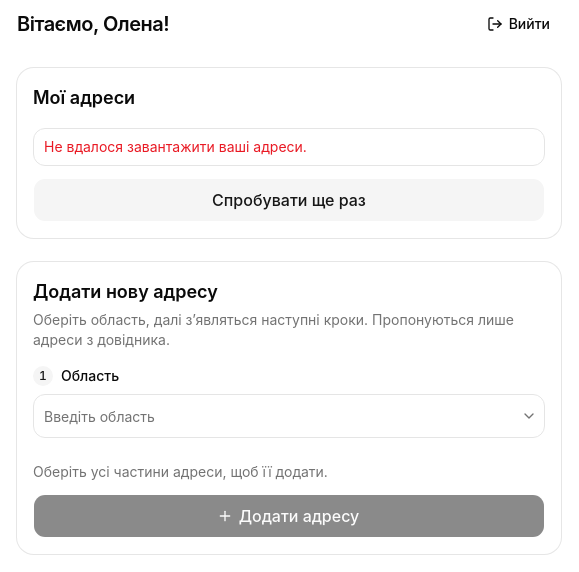
it: HomeScreen › shows a list error and retries
This screenshot has width=579, height=572.
Expected: the text "Не вдалося завантажити ваші адреси." is shown, [44,138,307,155]
What coordinates should you click on to do the following:
click the button "Спробувати ще раз"
I would click on:
 (289, 200)
Its box is [33,178,545,222].
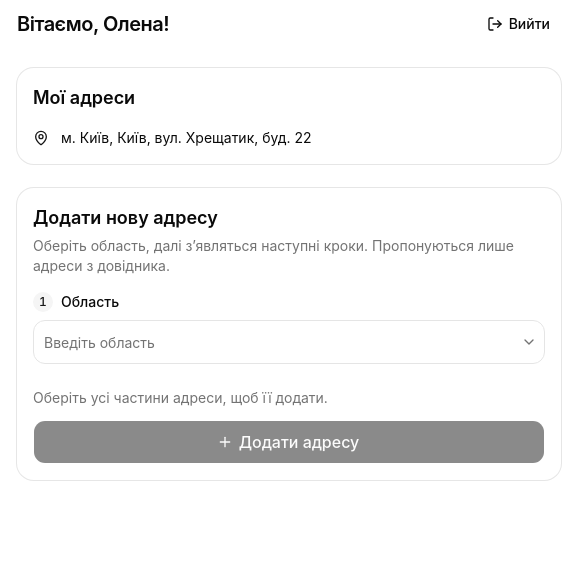
Result: the list named "Мої адреси" shows "буд. 22" at [61,129,312,146]
